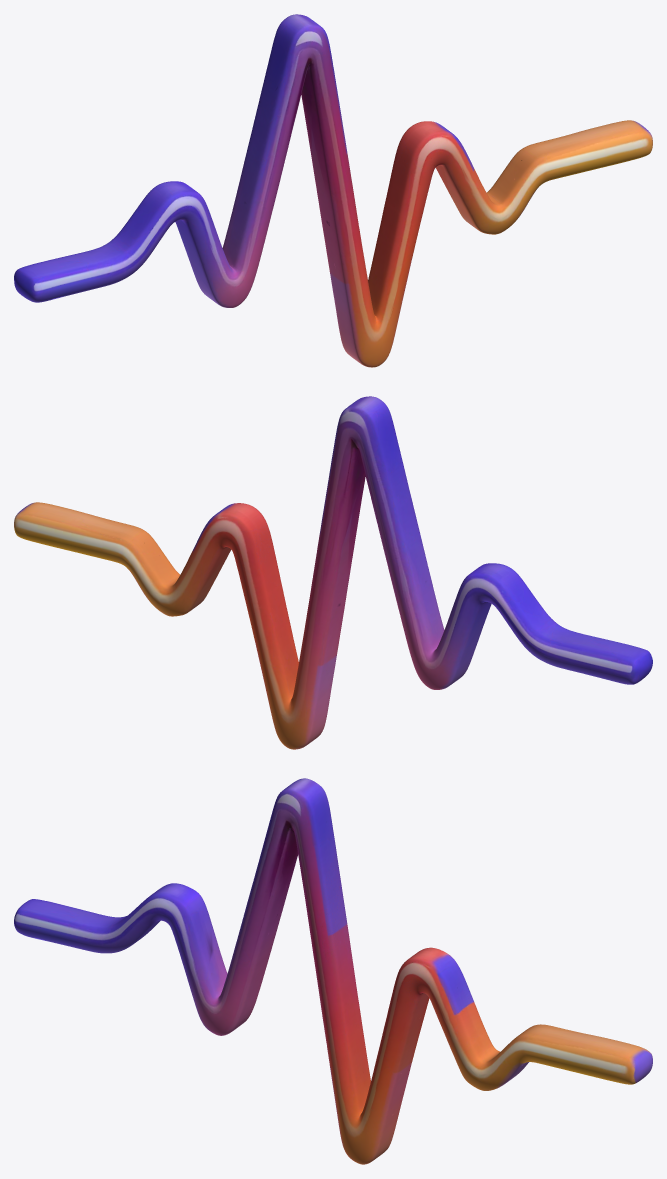
Rendered from ecg.glb.
The picture shows the model from 3 angles, top to bottom: view 1: azimuth 30°, elevation 25°; view 2: azimuth 150°, elevation 25°; view 3: azimuth 330°, elevation 25°; orthographic projection.
Visible parts, largest first — view 1: node_0; view 2: node_0; view 3: node_0.
Part boxes in pixels (bbox=[...]): node_0: bbox=[14, 14, 652, 367]; node_0: bbox=[14, 396, 652, 749]; node_0: bbox=[14, 778, 652, 1164].
Size of the model in its own units: 1.2 by 0.6551 by 0.0751.
1 material, 1 textured.
